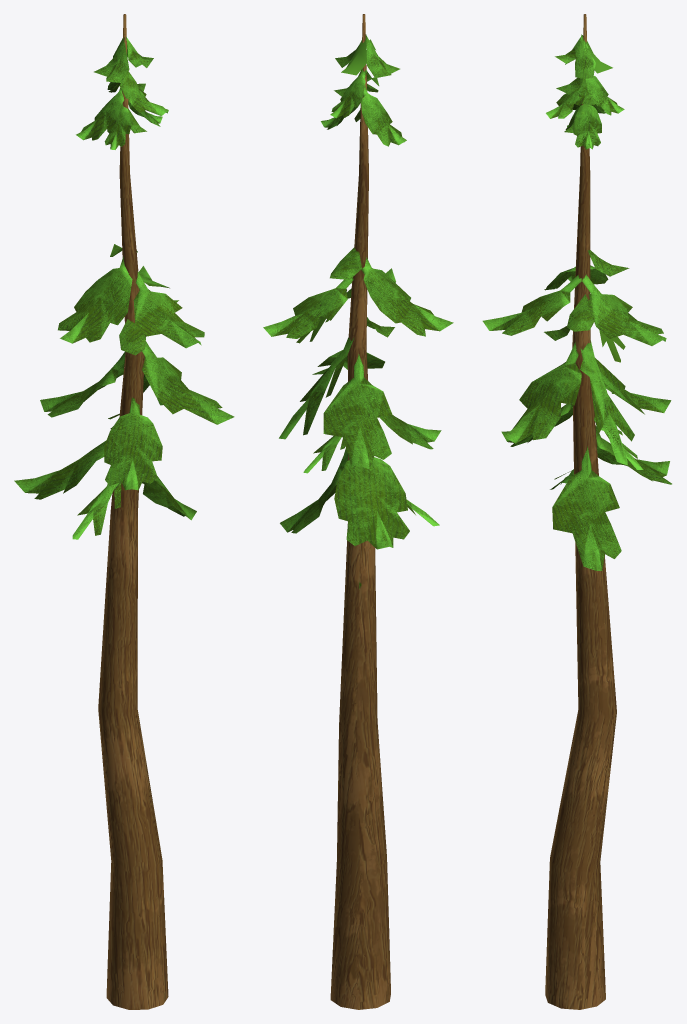
The model's file is high tree.fbx.
3 views of the same model, side by side, from view 1: azimuth 30°, elevation 25°; view 2: azimuth 150°, elevation 25°; view 3: azimuth 270°, elevation 25° (orthographic).
Parts seen in each view (by area): view 1: high tree; view 2: high tree; view 3: high tree.
Boxes of the visible parts, <box> form: high tree: <box>14,14,234,1009</box>; high tree: <box>263,14,453,1009</box>; high tree: <box>482,14,671,1009</box>.
Bounding box in the file's own units: 70.63 × 426 × 75.13.
1 material, 1 textured.
